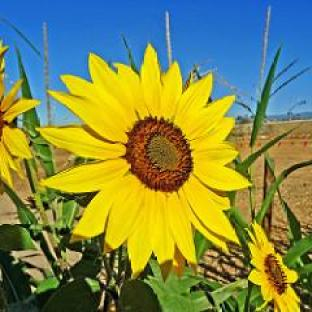sunflower: (35, 44, 254, 280)
